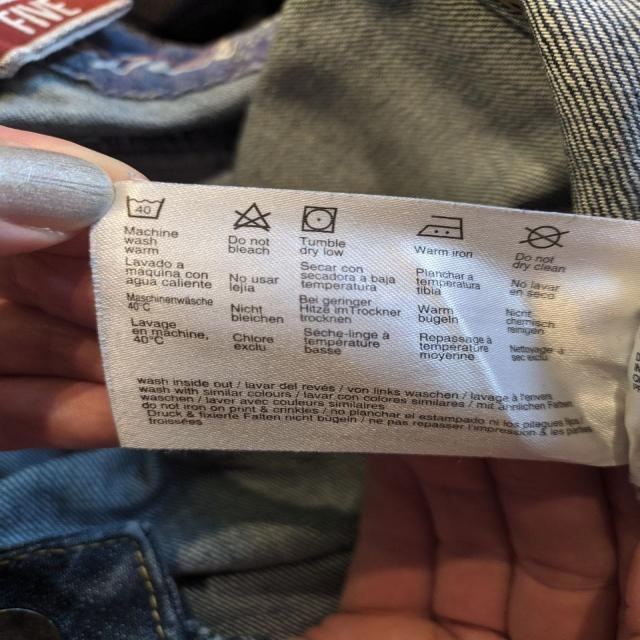40C: (123, 192, 171, 221)
DN_bleach: (232, 200, 275, 233)
DN_dry_clean: (517, 218, 572, 250)
iron_medium: (415, 211, 473, 239)
tumble_dry_low: (298, 203, 340, 235)
